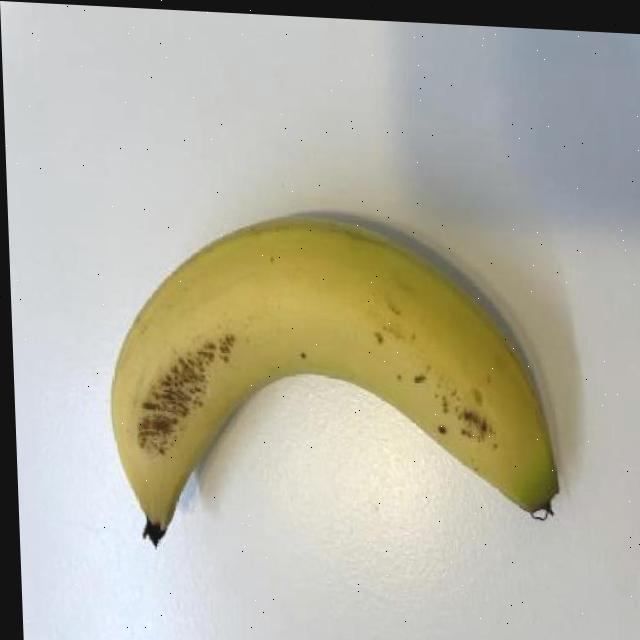banana: (96, 202, 568, 573)
